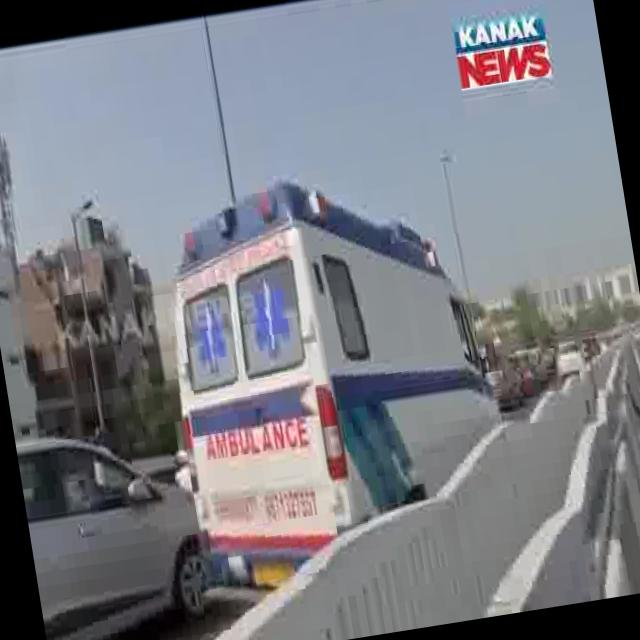ambulance: (140, 152, 526, 598)
